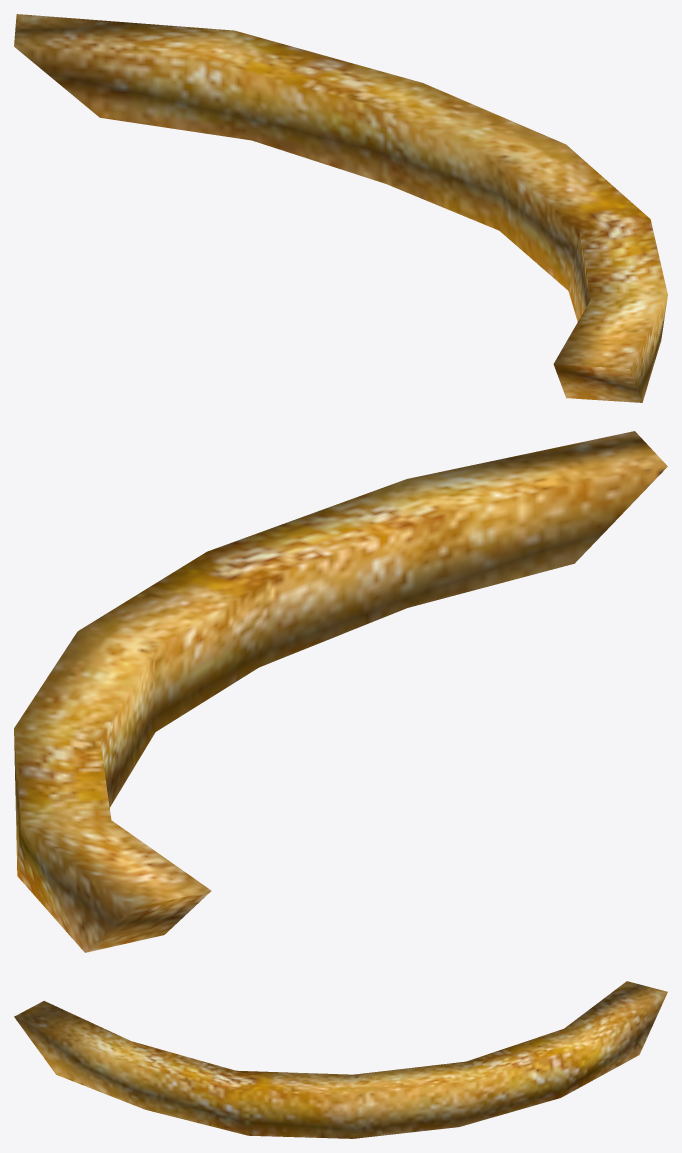
Rendered from burger_fries04.dae.
3 views of the same model, one above another, from view 1: azimuth 30°, elevation 25°; view 2: azimuth 150°, elevation 25°; view 3: azimuth 270°, elevation 25° (orthographic). The views are drawn at different scales.
Visible parts, largest first — view 1: polySurface17; view 2: polySurface17; view 3: polySurface17.
Boxes of the visible parts, x1,y1,x2,y2 form: polySurface17: (14,14,667,402); polySurface17: (14,431,667,952); polySurface17: (14,981,667,1138).
Bounding box in the file's own units: 0.0566 × 0.0152 × 0.1533.
